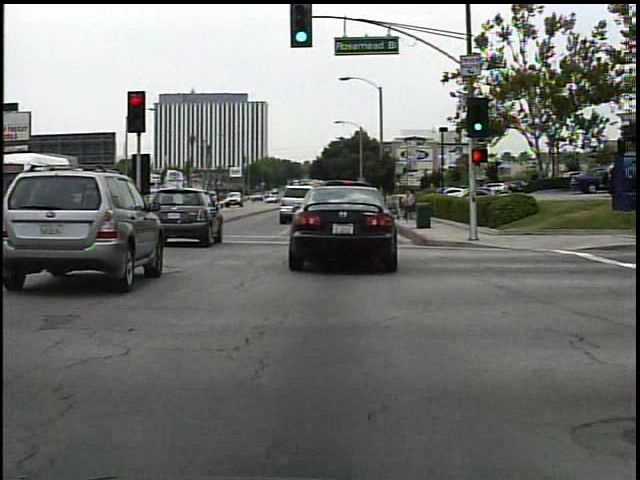person: (400, 187, 417, 224)
